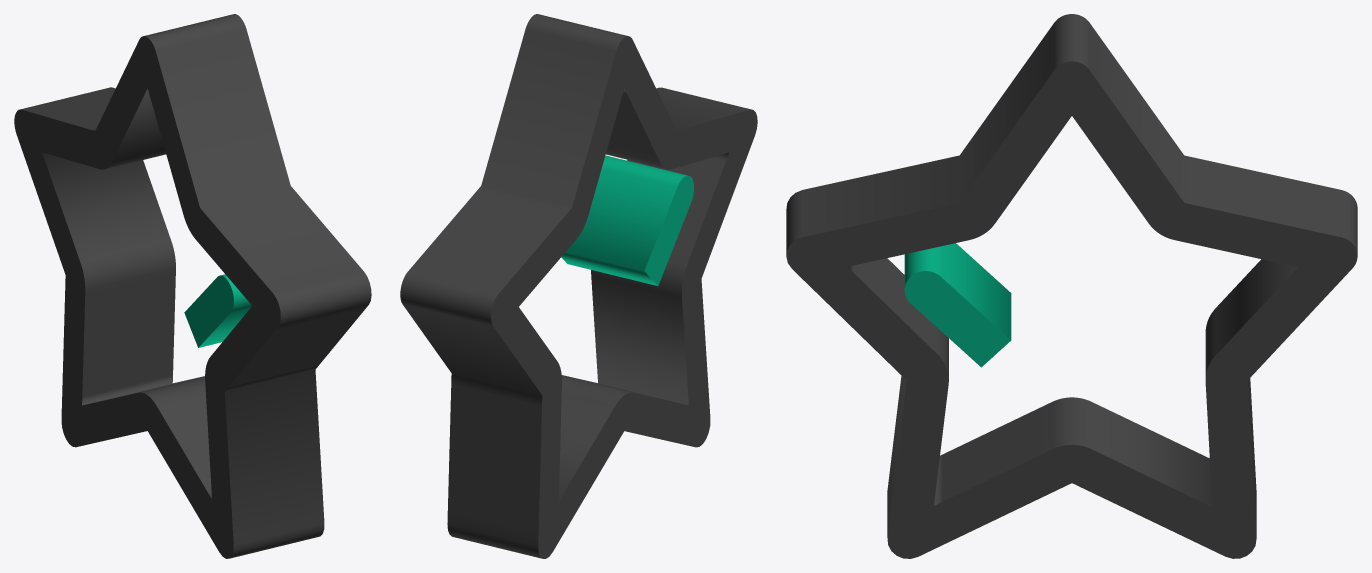
The model's file is star.glb.
3 views of the same model, side by side, from view 1: azimuth 30°, elevation 25°; view 2: azimuth 150°, elevation 25°; view 3: azimuth 270°, elevation 25° (orthographic). The views are drawn at different scales.
Parts seen in each view (by area): view 1: Curve; view 2: Curve; view 3: Curve.
Part boxes in pixels (x1,y1,x2,y2): Curve: (14, 14, 371, 558); Curve: (400, 14, 757, 558); Curve: (786, 14, 1357, 558).
Size of the model in its own units: 0.2184 by 0.978 by 1.02.
